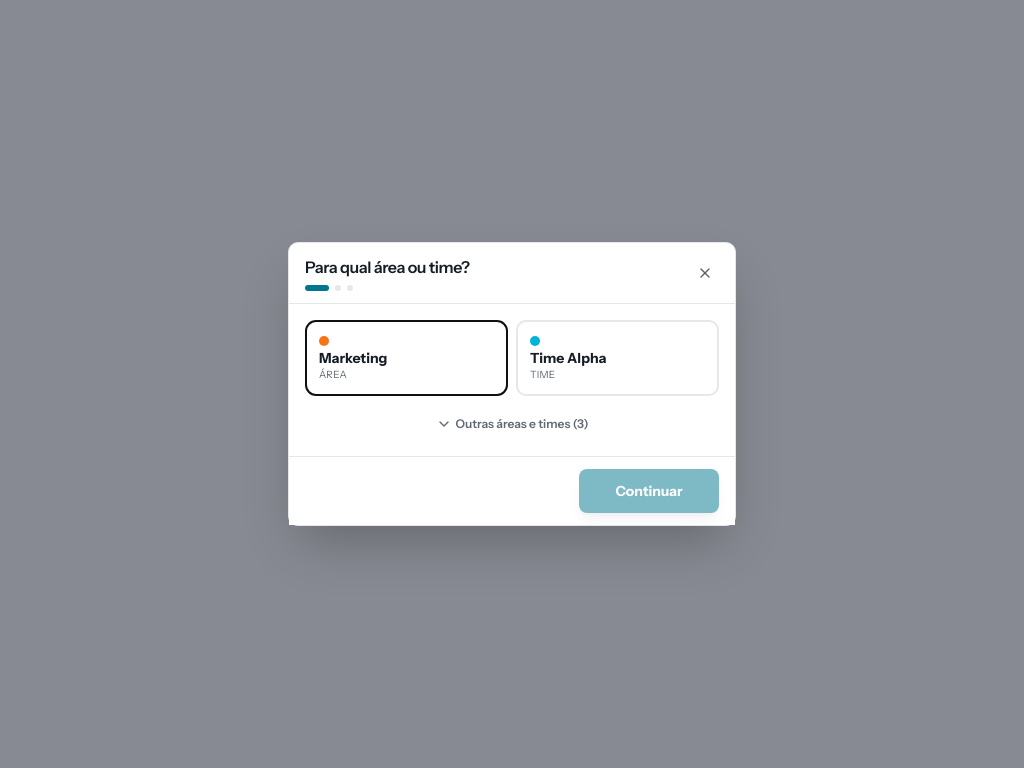
it: enviar uma demanda para si › sem nome, o botão de continuar fica travado
Click the button "Marketing Área" at coordinates (406, 358), box [305, 320, 508, 396]
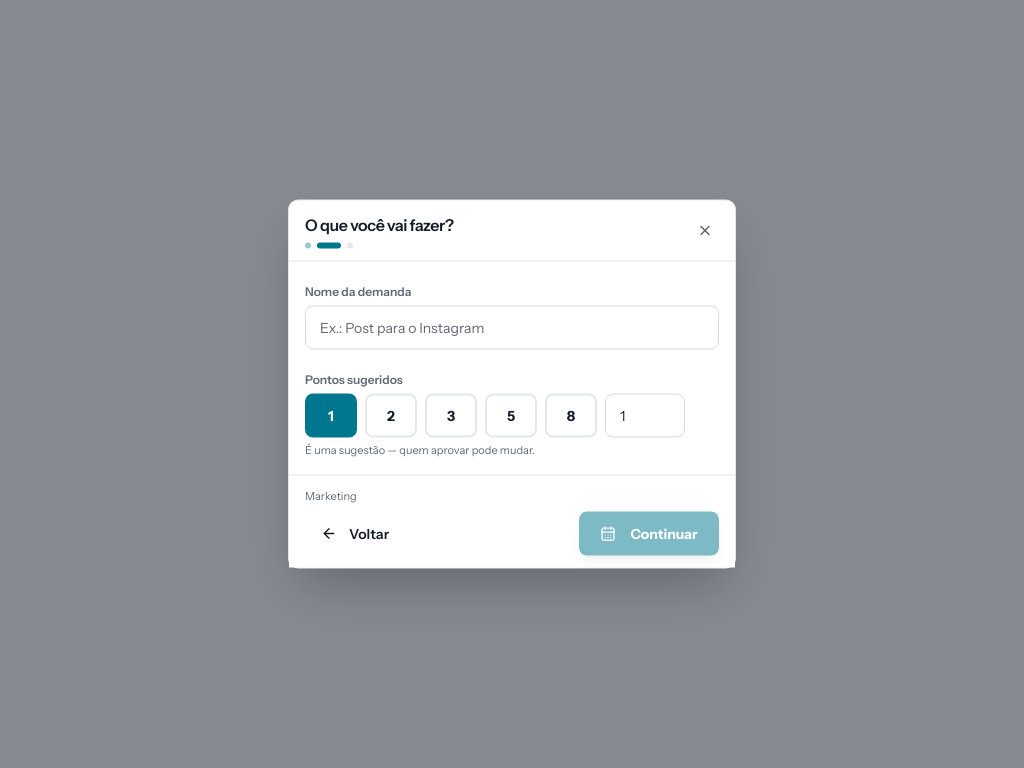
Expected: the button "Continuar" is disabled, [579, 512, 719, 556]
Type "Post" into the field labelled "Nome da demanda" at coordinates (512, 328), box [305, 306, 719, 350]
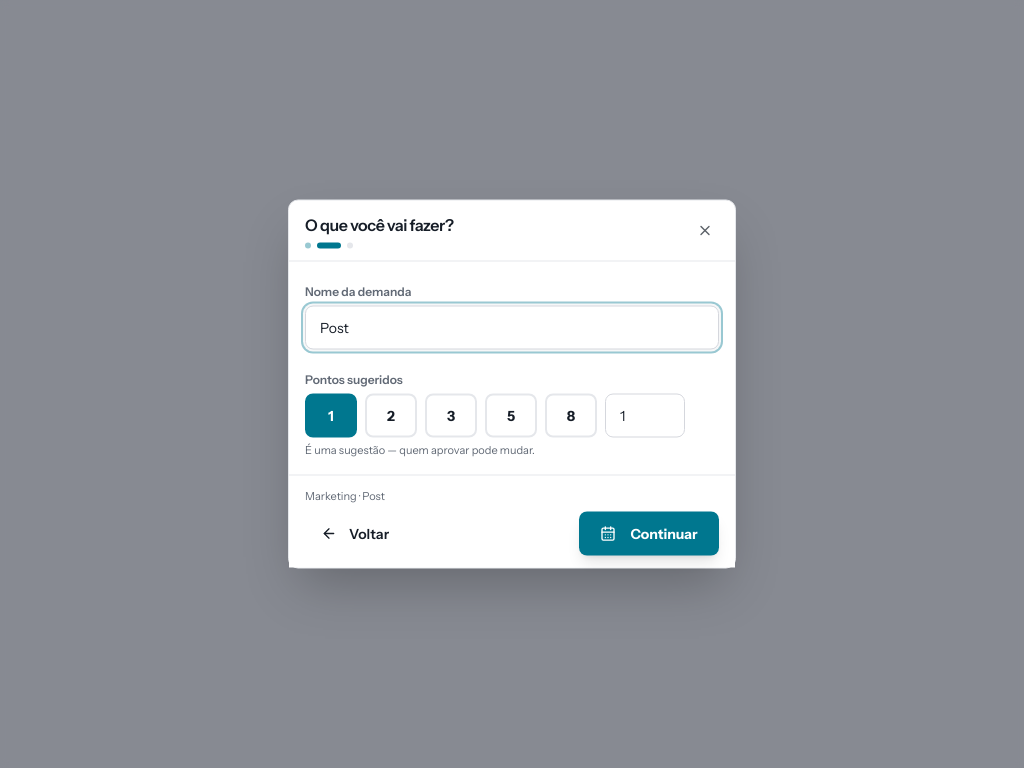
Expected: the button "Continuar" is enabled, [579, 512, 719, 556]
